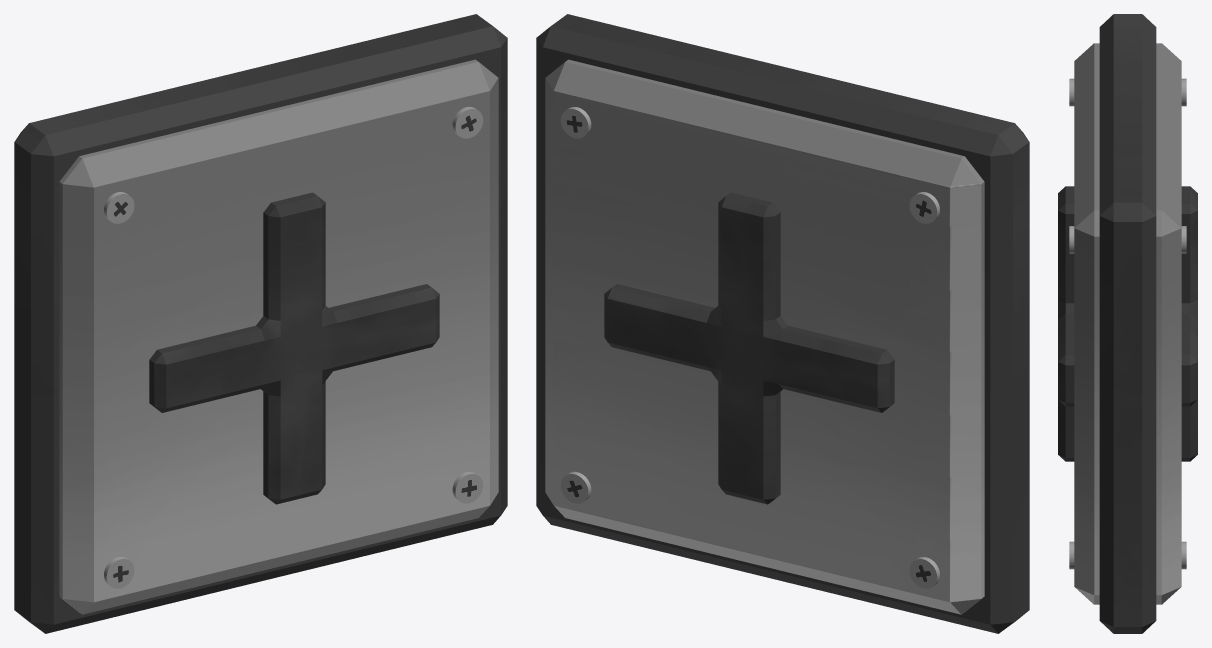
Rendered from PlusBox.glb.
3 renders of one model, left to right at view 1: azimuth 30°, elevation 25°; view 2: azimuth 150°, elevation 25°; view 3: azimuth 270°, elevation 25°, orthographic. The views are drawn at different scales.
Visible parts, largest first — view 1: PlusBox; view 2: PlusBox; view 3: PlusBox.
Part boxes in pixels (box(x1,y1,x2,y2)): PlusBox: box(14, 14, 507, 633); PlusBox: box(536, 14, 1029, 633); PlusBox: box(1058, 14, 1197, 633).
Size of the model in its own units: 2.19 by 2.19 by 0.642.
1 material, 1 textured.
